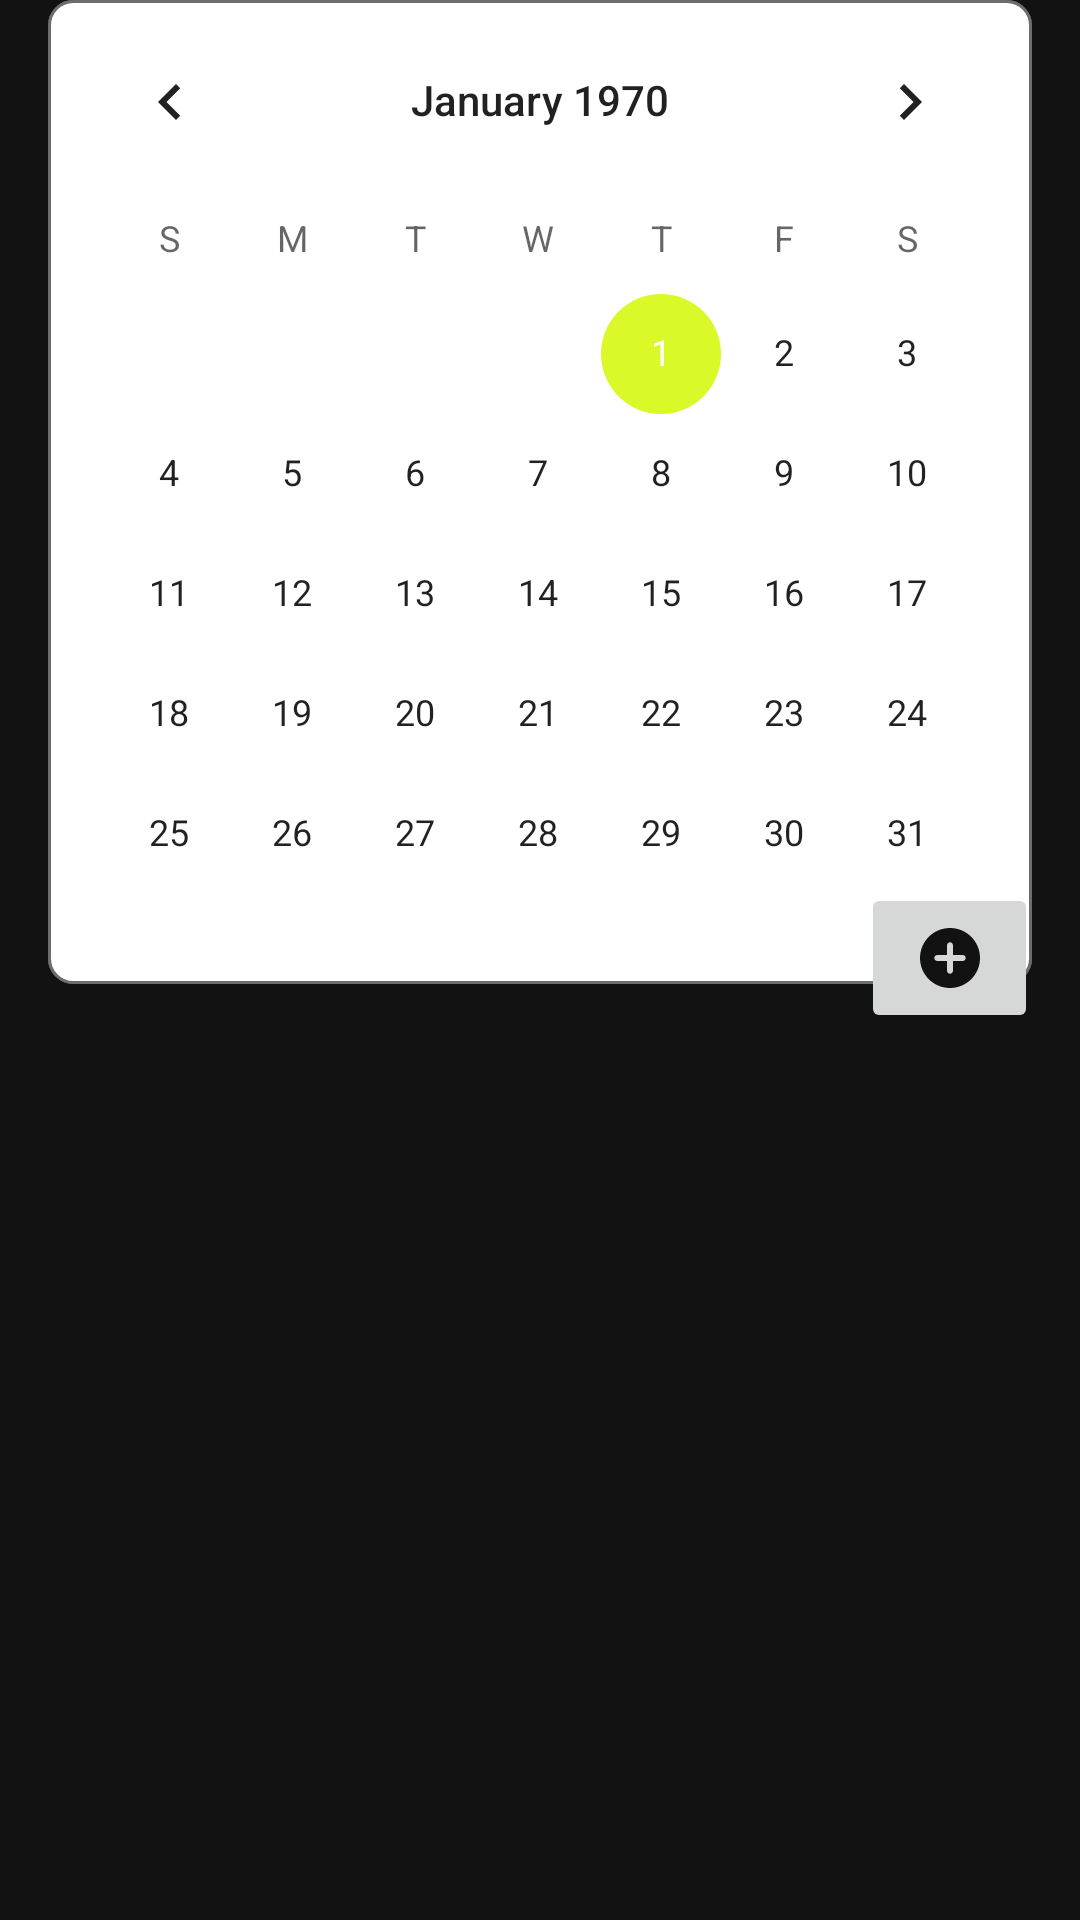

Point at icon controls on the screen. Image size 1080px x 1920px, points as point (x, y).
plus: point (949, 958)
